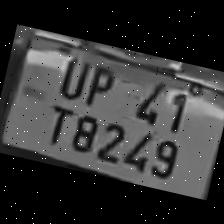1: (159, 82, 192, 132)
2: (92, 113, 128, 164)
4: (128, 70, 170, 124), (119, 122, 155, 171)
8: (66, 107, 102, 155)
9: (144, 132, 182, 180)
P: (80, 57, 119, 108)
T: (38, 97, 76, 146)
U: (52, 48, 91, 100)
